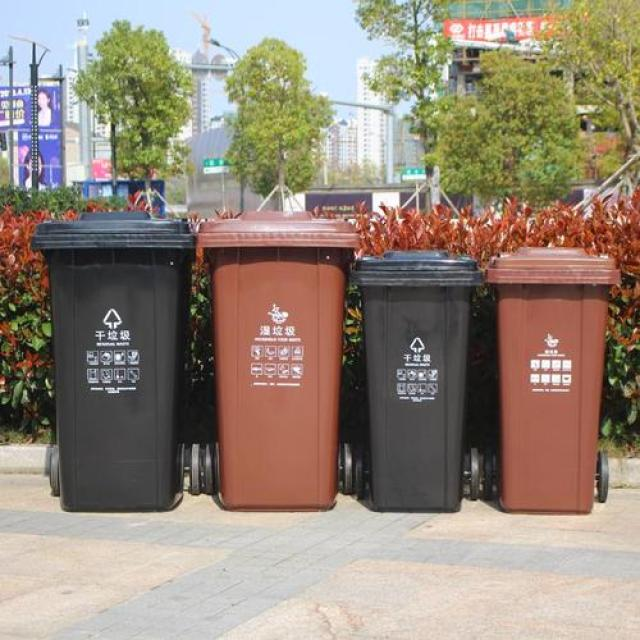garbage_bin: (32, 210, 196, 512), (196, 209, 354, 512), (485, 246, 618, 513), (352, 250, 483, 512)
